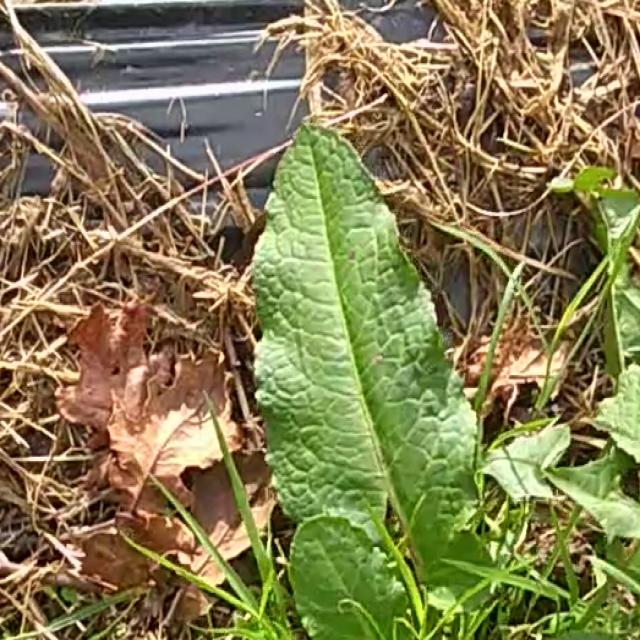organic waste: (187, 78, 593, 640)
